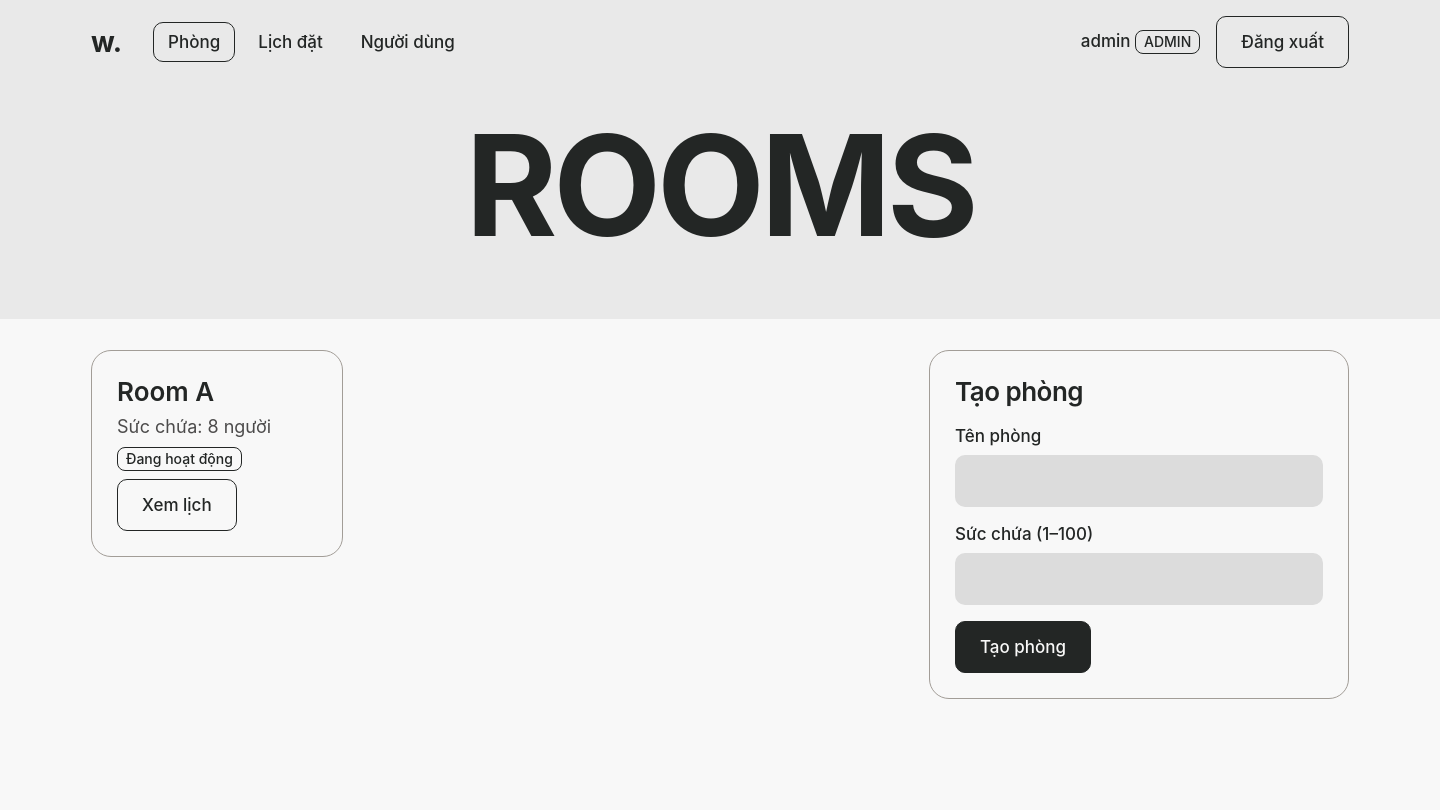
Test: App › ADMIN thấy tab Người dùng và vào được màn tạo người dùng
Expected: the heading "Room A" is shown, [117, 376, 214, 407]
Click the button "Người dùng".
click(408, 42)  # box [346, 22, 470, 62]
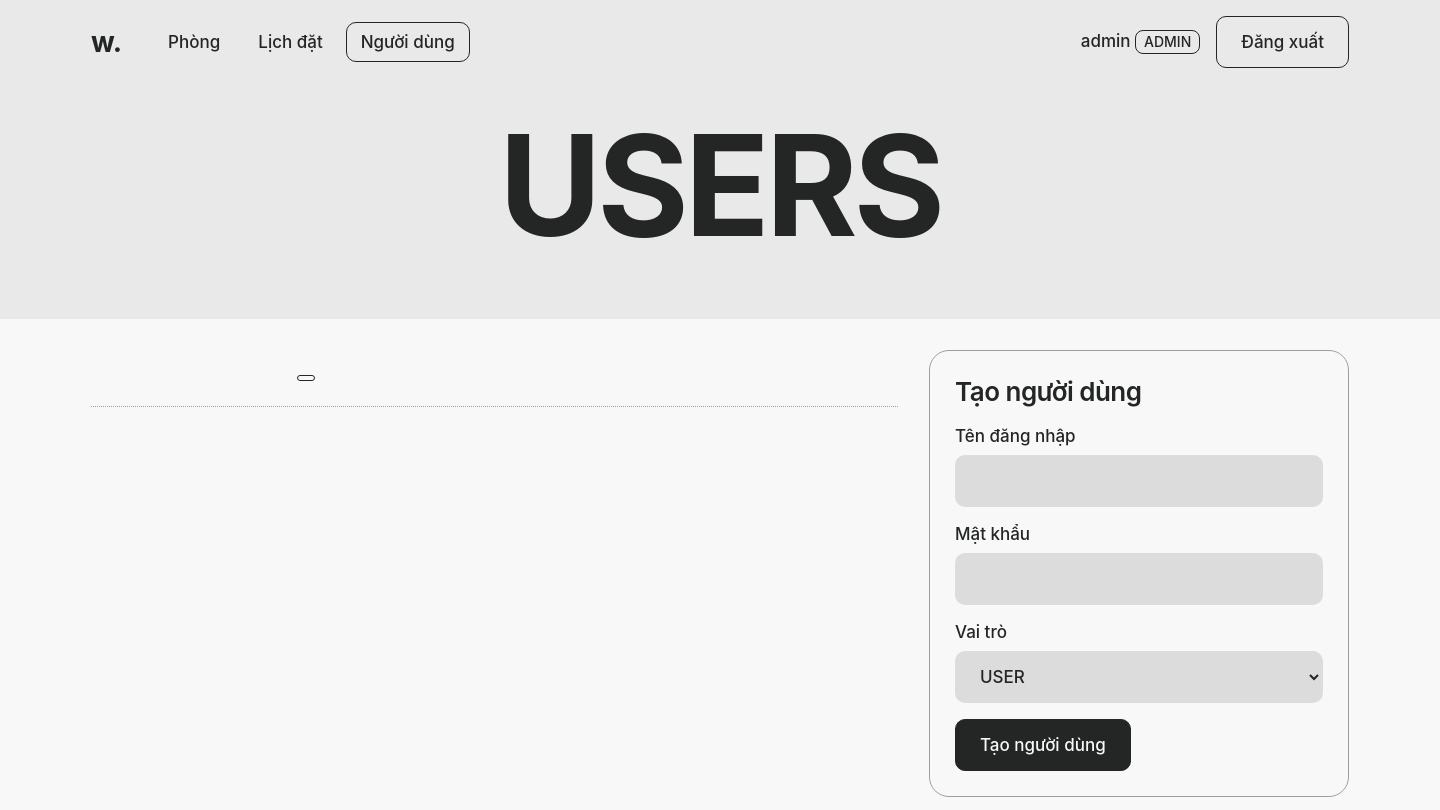
Result: the heading "Tạo người dùng" is shown at [955, 376, 1142, 407]
Result: the heading "Tạo phòng" is gone
